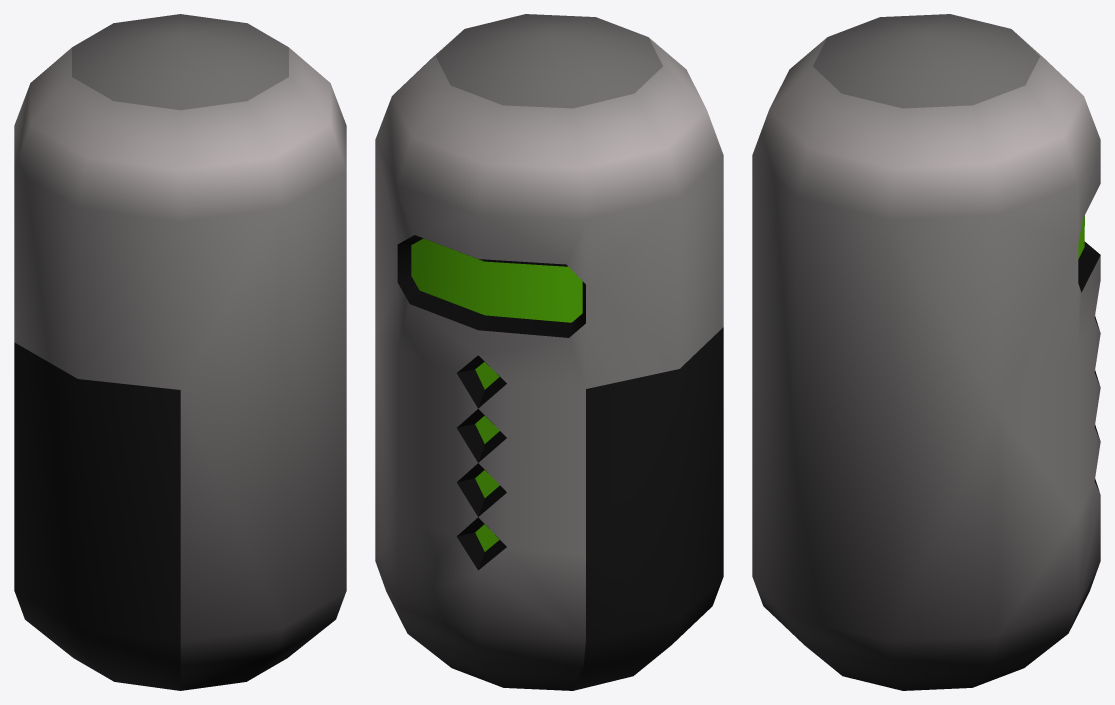
The model's file is Alien_Scrap03.fbx.
The picture shows the model from 3 angles, left to right: view 1: azimuth 30°, elevation 25°; view 2: azimuth 150°, elevation 25°; view 3: azimuth 270°, elevation 25°; orthographic projection.
Parts seen in each view (by area): view 1: Alien_Scrap03; view 2: Alien_Scrap03; view 3: Alien_Scrap03.
Part boxes in pixels (x1,y1,x2,y2): Alien_Scrap03: [14, 14, 346, 690]; Alien_Scrap03: [375, 14, 723, 690]; Alien_Scrap03: [752, 14, 1100, 690].
Size of the model in its own units: 956 by 1875 by 972.
